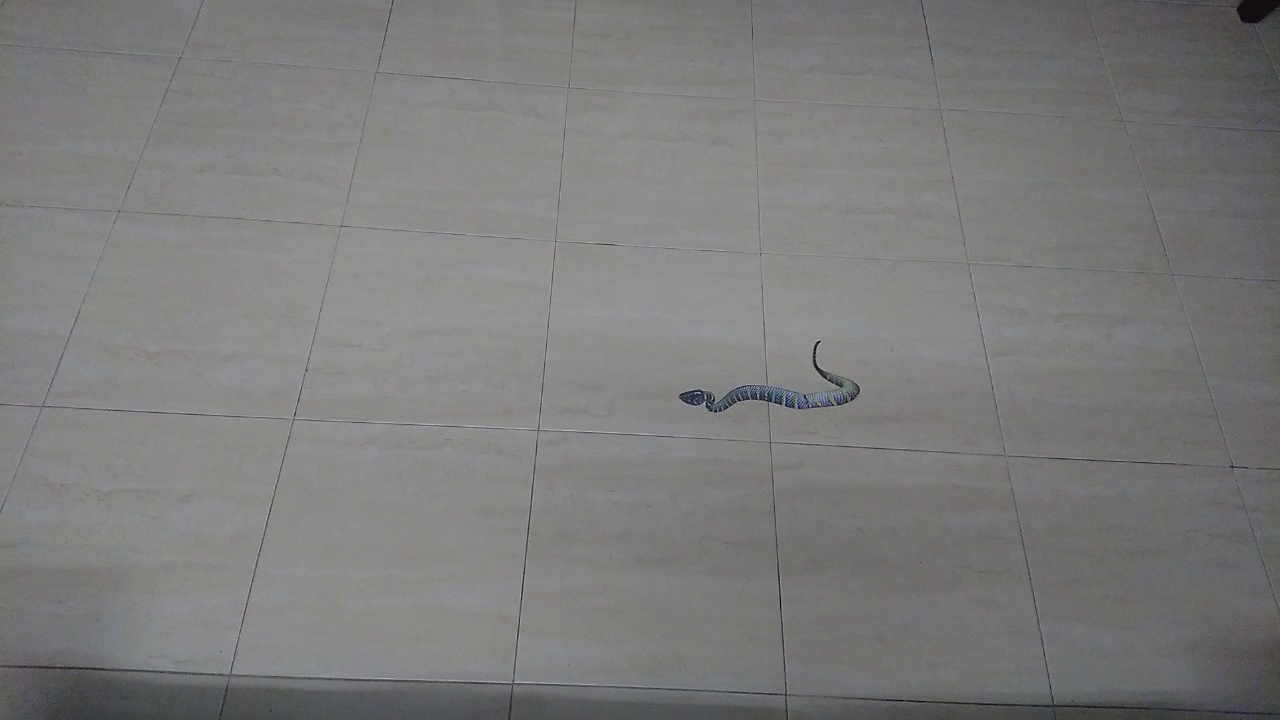snake: (665, 326, 883, 426)
